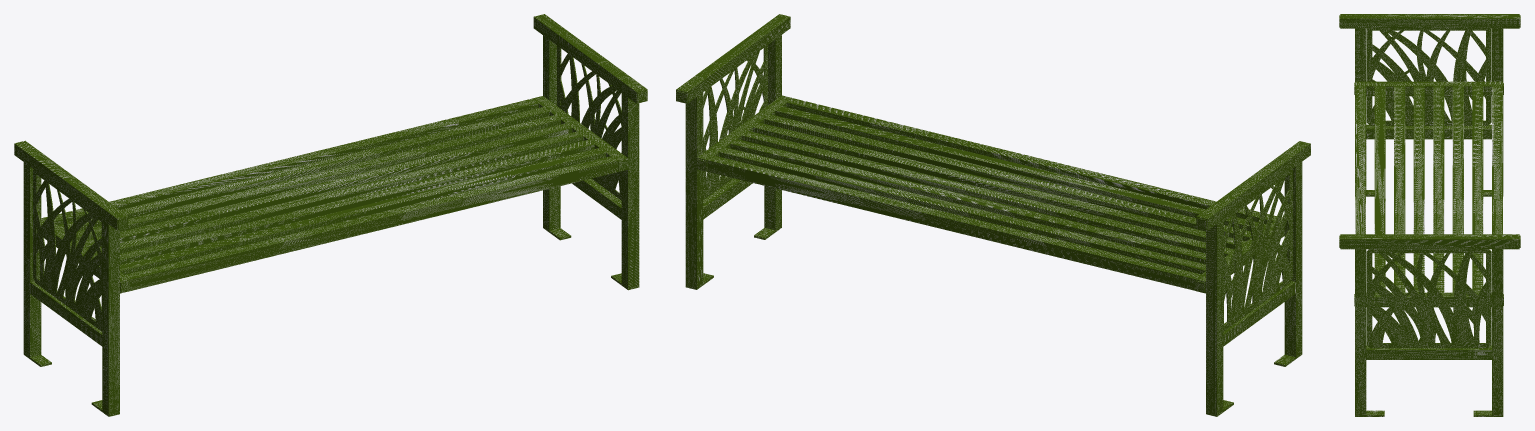
The picture shows the model from 3 angles, left to right: view 1: azimuth 30°, elevation 25°; view 2: azimuth 150°, elevation 25°; view 3: azimuth 270°, elevation 25°; orthographic projection. The views are drawn at different scales.
Visible parts, largest first — view 1: mesh295_mesh295-geometry, mesh164_mesh164-geometry, mesh163_mesh163-geometry, mesh18_mesh18-geometry, mesh1_mesh1-geometry, mesh2_mesh2-geometry, mesh3_mesh3-geometry, mesh6_mesh6-geometry, mesh5_mesh5-geometry, mesh7_mesh7-geometry, mesh4_mesh4-geometry, mesh17_mesh17-geometry (+3 smaller); view 2: mesh7_mesh7-geometry, mesh164_mesh164-geometry, mesh163_mesh163-geometry, mesh18_mesh18-geometry, mesh4_mesh4-geometry, mesh5_mesh5-geometry, mesh6_mesh6-geometry, mesh3_mesh3-geometry, mesh2_mesh2-geometry, mesh1_mesh1-geometry, mesh295_mesh295-geometry, mesh17_mesh17-geometry (+3 smaller); view 3: mesh17_mesh17-geometry, mesh163_mesh163-geometry, mesh18_mesh18-geometry, mesh8_mesh8-geometry, mesh154_mesh154-geometry, mesh164_mesh164-geometry, mesh4_mesh4-geometry, mesh6_mesh6-geometry, mesh5_mesh5-geometry, mesh2_mesh2-geometry, mesh3_mesh3-geometry, mesh1_mesh1-geometry (+4 smaller).
Part boxes in pixels (x1=…): mesh295_mesh295-geometry: x1=125, y1=156, x2=616, y2=290; mesh164_mesh164-geometry: x1=23, y1=162, x2=119, y2=416; mesh163_mesh163-geometry: x1=33, y1=170, x2=102, y2=331; mesh18_mesh18-geometry: x1=543, y1=35, x2=639, y2=290; mesh1_mesh1-geometry: x1=120, y1=148, x2=605, y2=274; mesh2_mesh2-geometry: x1=120, y1=139, x2=594, y2=264; mesh3_mesh3-geometry: x1=95, y1=131, x2=583, y2=254; mesh6_mesh6-geometry: x1=84, y1=123, x2=572, y2=248; mesh5_mesh5-geometry: x1=76, y1=115, x2=560, y2=240; mesh7_mesh7-geometry: x1=46, y1=98, x2=538, y2=225; mesh4_mesh4-geometry: x1=57, y1=107, x2=549, y2=231; mesh17_mesh17-geometry: x1=557, y1=46, x2=621, y2=200; mesh7_mesh7-geometry: x1=708, y1=155, x2=1200, y2=290; mesh164_mesh164-geometry: x1=1206, y1=162, x2=1302, y2=416; mesh163_mesh163-geometry: x1=1223, y1=169, x2=1292, y2=331; mesh18_mesh18-geometry: x1=685, y1=35, x2=781, y2=289; mesh4_mesh4-geometry: x1=719, y1=147, x2=1205, y2=274; mesh5_mesh5-geometry: x1=730, y1=139, x2=1205, y2=264; mesh6_mesh6-geometry: x1=741, y1=131, x2=1233, y2=256; mesh3_mesh3-geometry: x1=753, y1=122, x2=1245, y2=249; mesh2_mesh2-geometry: x1=764, y1=114, x2=1251, y2=241; mesh1_mesh1-geometry: x1=775, y1=106, x2=1266, y2=231; mesh295_mesh295-geometry: x1=786, y1=98, x2=1276, y2=224; mesh17_mesh17-geometry: x1=703, y1=45, x2=767, y2=199; mesh17_mesh17-geometry: x1=1366, y1=249, x2=1491, y2=348; mesh163_mesh163-geometry: x1=1366, y1=28, x2=1491, y2=125; mesh18_mesh18-geometry: x1=1355, y1=249, x2=1503, y2=416; mesh8_mesh8-geometry: x1=1339, y1=234, x2=1520, y2=249; mesh154_mesh154-geometry: x1=1339, y1=14, x2=1520, y2=28; mesh164_mesh164-geometry: x1=1355, y1=28, x2=1503, y2=196; mesh4_mesh4-geometry: x1=1472, y1=86, x2=1483, y2=292; mesh6_mesh6-geometry: x1=1433, y1=86, x2=1444, y2=292; mesh5_mesh5-geometry: x1=1452, y1=86, x2=1463, y2=292; mesh2_mesh2-geometry: x1=1394, y1=86, x2=1405, y2=292; mesh3_mesh3-geometry: x1=1413, y1=86, x2=1424, y2=292; mesh1_mesh1-geometry: x1=1374, y1=86, x2=1385, y2=292.
Bounding box in the file's own units: 0.894 × 0.329 × 0.3041.
